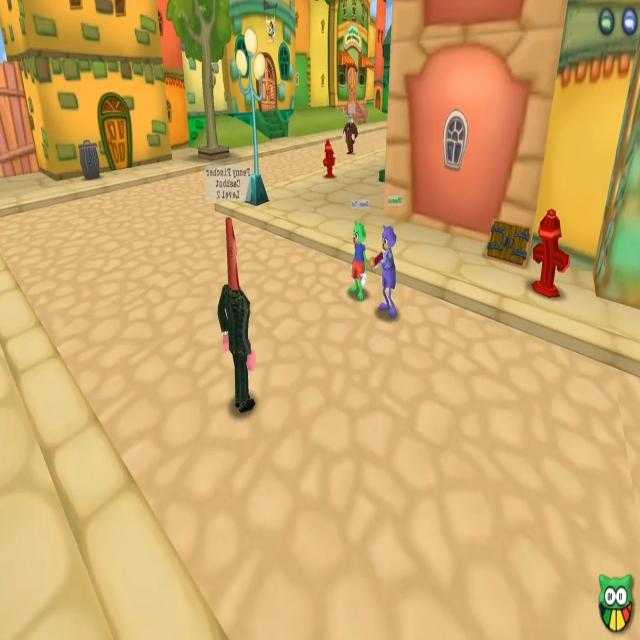flunky: (340, 117, 362, 151)
pennypincher: (218, 217, 256, 415)
